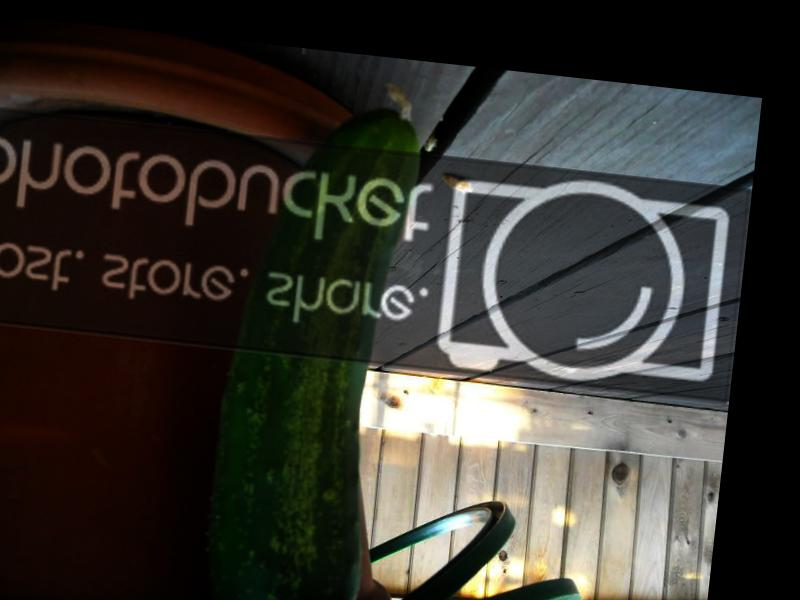Cucumber: (195, 70, 427, 600)
